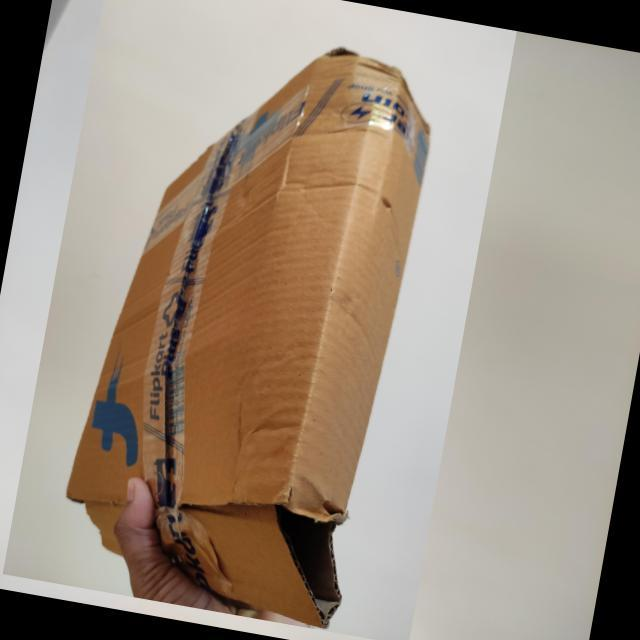cardboxes: (64, 48, 432, 630)
